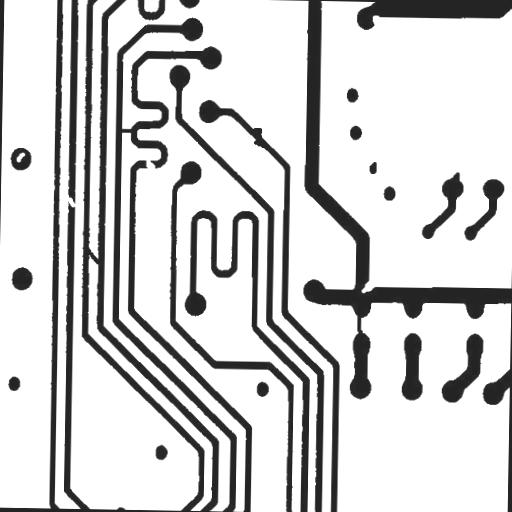copper: (361, 154, 384, 181)
mousebite: (354, 272, 384, 301), (364, 8, 386, 34)
open: (138, 147, 163, 178), (58, 190, 82, 214)
pin-hole: (9, 144, 32, 170)
short: (348, 303, 373, 347), (78, 240, 108, 272), (110, 120, 142, 141)
spur: (244, 120, 274, 155), (442, 164, 467, 189)
